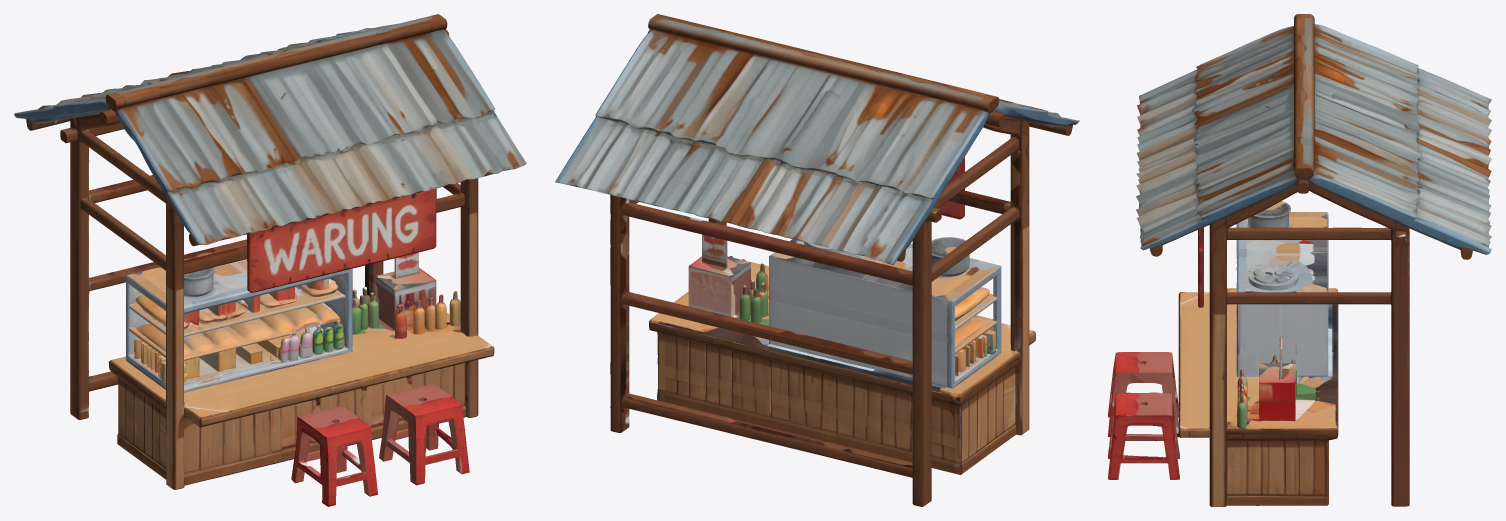
The model's file is small_food_and_drink_stall_warung.glb.
3 views of the same model, side by side, from view 1: azimuth 30°, elevation 25°; view 2: azimuth 150°, elevation 25°; view 3: azimuth 270°, elevation 25° (orthographic). The views are drawn at different scales.
Parts seen in each view (by area): view 1: Object_3, Object_4, Object_2; view 2: Object_3, Object_4, Object_2; view 3: Object_3, Object_4, Object_2.
Boxes of the visible parts, x1,y1,x2,y2 form: Object_3: [14, 14, 526, 489]; Object_4: [84, 19, 526, 506]; Object_2: [70, 202, 468, 424]; Object_3: [555, 14, 1079, 506]; Object_4: [555, 27, 1074, 476]; Object_2: [754, 225, 1028, 395]; Object_3: [1108, 14, 1491, 506]; Object_4: [1108, 77, 1491, 506]; Object_2: [1180, 240, 1326, 477].
Bounding box in the file's own units: 1.83 × 1.85 × 1.86.
Materials: 1 (1 with a texture image).
